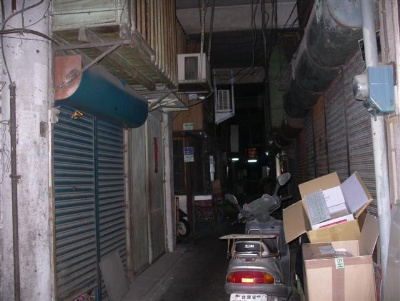box: (281, 170, 373, 243), (301, 239, 378, 301)
